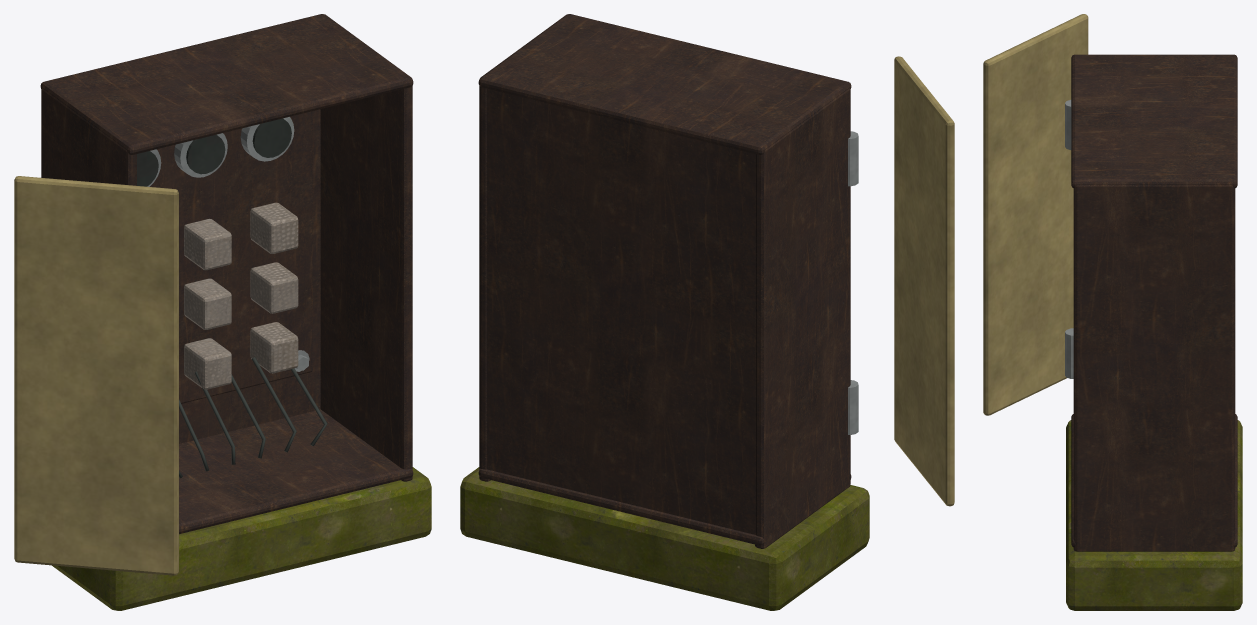
The model's file is f3_control_cabinet.glb.
3 views of the same model, side by side, from view 1: azimuth 30°, elevation 25°; view 2: azimuth 150°, elevation 25°; view 3: azimuth 270°, elevation 25° (orthographic). The views are drawn at different scales.
Parts seen in each view (by area): view 1: f3_oxidized_iron_surface, f3_faded_safety_ochre_surface, f3_damp_concrete_surface, f3_weathered_concrete_surface, f3_deep_crack_surface, f3_aged_rubber_surface, f3_bare_worn_steel_surface; view 2: f3_oxidized_iron_surface, f3_damp_concrete_surface, f3_faded_safety_ochre_surface, f3_bare_worn_steel_surface; view 3: f3_oxidized_iron_surface, f3_faded_safety_ochre_surface, f3_damp_concrete_surface, f3_bare_worn_steel_surface.
Boxes of the visible parts, x1,y1,x2,y2 form: f3_oxidized_iron_surface: (40, 14, 413, 534); f3_faded_safety_ochre_surface: (14, 176, 178, 575); f3_damp_concrete_surface: (52, 467, 431, 610); f3_weathered_concrete_surface: (184, 202, 298, 389); f3_deep_crack_surface: (137, 118, 291, 186); f3_aged_rubber_surface: (179, 357, 327, 478); f3_bare_worn_steel_surface: (147, 117, 309, 371); f3_oxidized_iron_surface: (478, 14, 851, 548); f3_damp_concrete_surface: (460, 467, 869, 610); f3_faded_safety_ochre_surface: (894, 56, 954, 506); f3_bare_worn_steel_surface: (848, 131, 858, 434); f3_oxidized_iron_surface: (1071, 54, 1237, 551); f3_faded_safety_ochre_surface: (983, 14, 1088, 415); f3_damp_concrete_surface: (1066, 420, 1242, 610); f3_bare_worn_steel_surface: (1065, 100, 1073, 378).
Bounding box in the file's own units: 1.73 × 1.86 × 1.03.
Materials: 7 (7 with a texture image).
